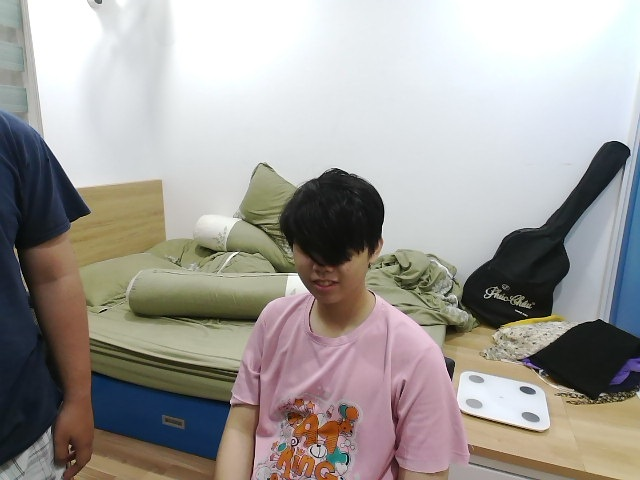face: (278, 167, 385, 305)
